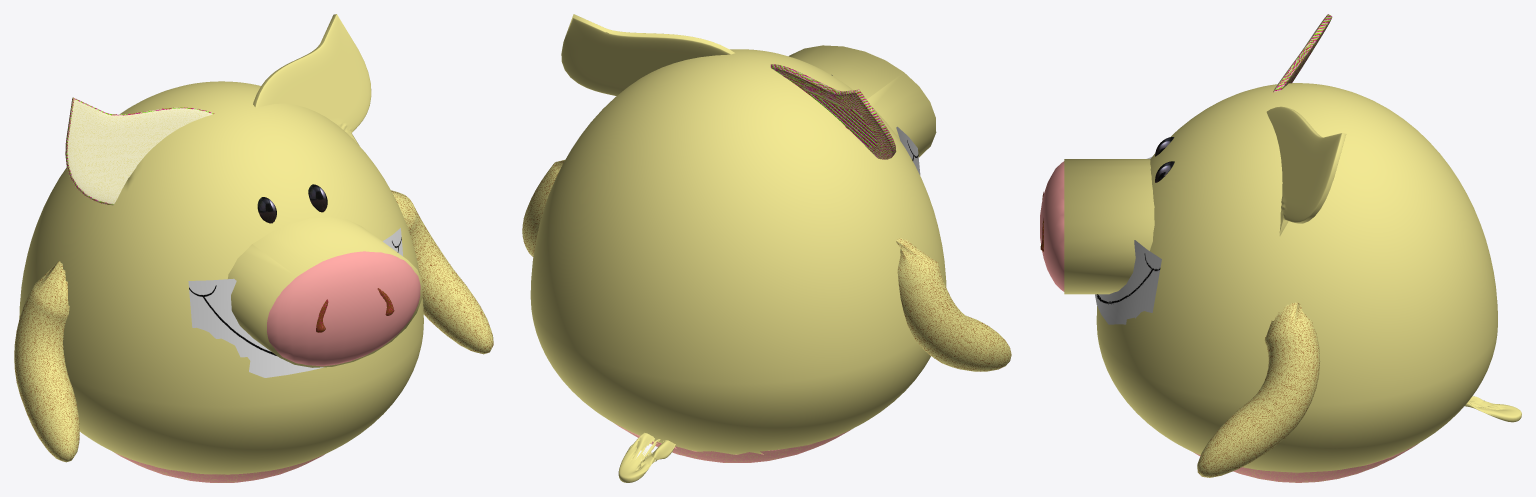
The model's file is brownpig.dae.
The picture shows the model from 3 angles, left to right: view 1: azimuth 30°, elevation 25°; view 2: azimuth 150°, elevation 25°; view 3: azimuth 270°, elevation 25°; orthographic projection. The views are drawn at different scales.
Visible parts, largest first — view 1: SketchUp (×11), group_0; view 2: SketchUp (×8), group_0 (×2); view 3: SketchUp (×9), group_0.
Boxes of the visible parts, x1=… form: SketchUp (×11): x1=14, y1=81, x2=493, y2=482; group_0: x1=253, y1=14, x2=371, y2=145; SketchUp (×8): x1=522, y1=45, x2=1011, y2=482; group_0 (×2): x1=561, y1=14, x2=734, y2=95; SketchUp (×9): x1=1040, y1=14, x2=1521, y2=482; group_0: x1=1266, y1=106, x2=1346, y2=235.
Bounding box in the file's own units: 34.9 × 32.78 × 29.86.
Materials: 12 (5 with a texture image).
